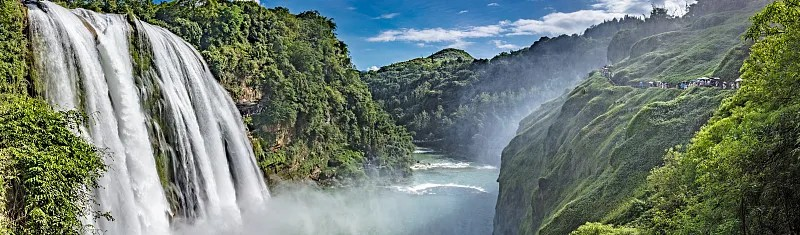Huangguoshu: (25, 4, 270, 235)
